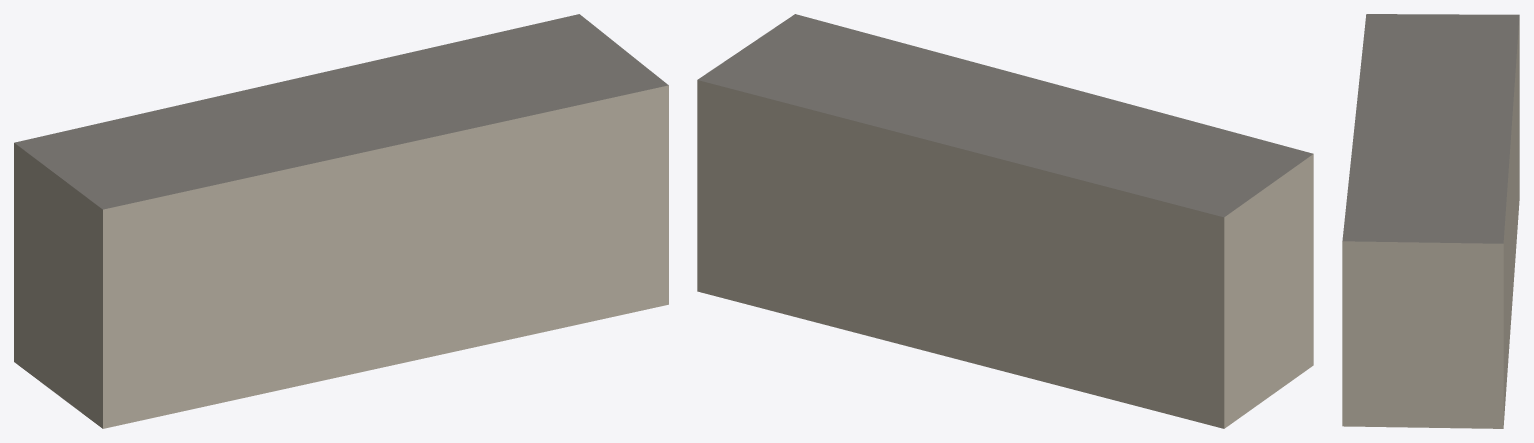
3 renders of one model, left to right at view 1: azimuth 30°, elevation 25°; view 2: azimuth 150°, elevation 25°; view 3: azimuth 270°, elevation 25°, orthographic. The views are drawn at different scales.
Visible parts, largest first — view 1: HP-w505664430; view 2: HP-w505664430; view 3: HP-w505664430.
Boxes of the visible parts, box(x1,y1,x2,y2) form: HP-w505664430: box(14, 14, 668, 428); HP-w505664430: box(697, 14, 1313, 428); HP-w505664430: box(1342, 14, 1519, 428).
Bounding box in the file's own units: 39.92 × 15 × 13.01.
